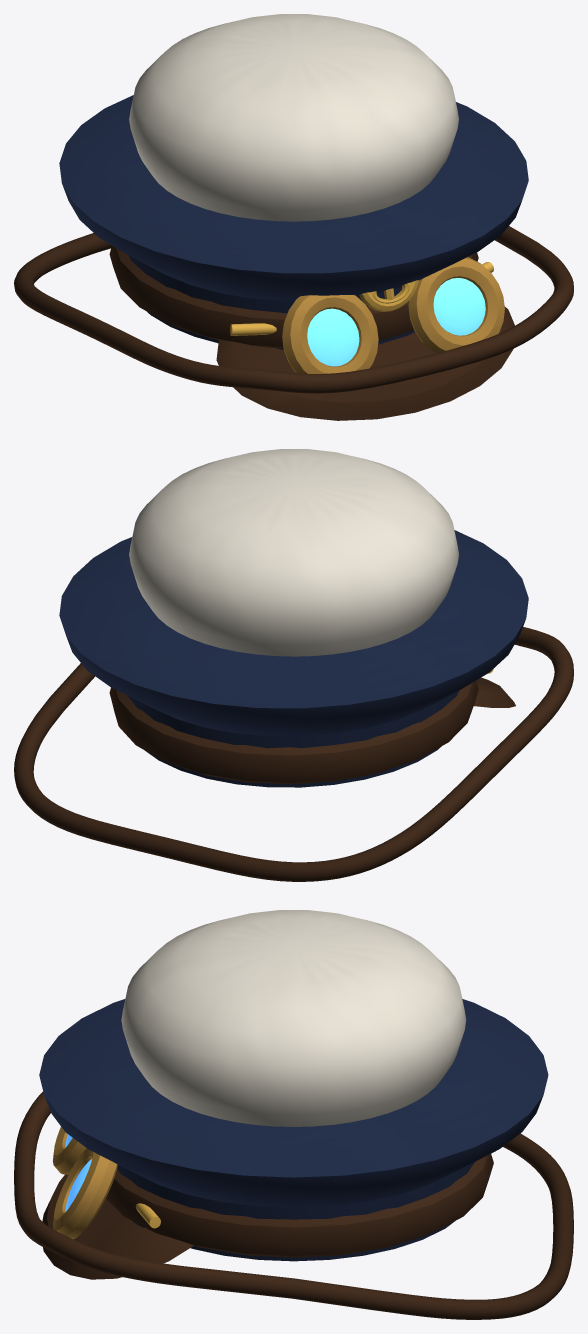
File: npc-extras.glb
3 renders of one model, top to bottom at view 1: azimuth 30°, elevation 25°; view 2: azimuth 150°, elevation 25°; view 3: azimuth 270°, elevation 25°, orthographic. The views are drawn at different scales.
Visible parts, largest first — view 1: extra_captain-hat_mesh, extra_chef-hat_mesh, extra_smith-goggles_mesh; view 2: extra_captain-hat_mesh, extra_chef-hat_mesh, extra_smith-goggles_mesh; view 3: extra_captain-hat_mesh, extra_chef-hat_mesh, extra_smith-goggles_mesh.
Boxes of the visible parts, left/top/right/bottom form: extra_captain-hat_mesh: left=59, top=95, right=528, bottom=420; extra_chef-hat_mesh: left=129, top=14, right=458, bottom=221; extra_smith-goggles_mesh: left=14, top=226, right=573, bottom=393; extra_captain-hat_mesh: left=59, top=530, right=528, bottom=787; extra_chef-hat_mesh: left=129, top=449, right=458, bottom=656; extra_smith-goggles_mesh: left=14, top=627, right=573, bottom=881; extra_captain-hat_mesh: left=39, top=999, right=548, bottom=1279; extra_chef-hat_mesh: left=121, top=910, right=466, bottom=1126; extra_smith-goggles_mesh: left=14, top=1091, right=573, bottom=1319.
Size of the model in its own units: 0.1457 by 0.0935 by 0.1616.
